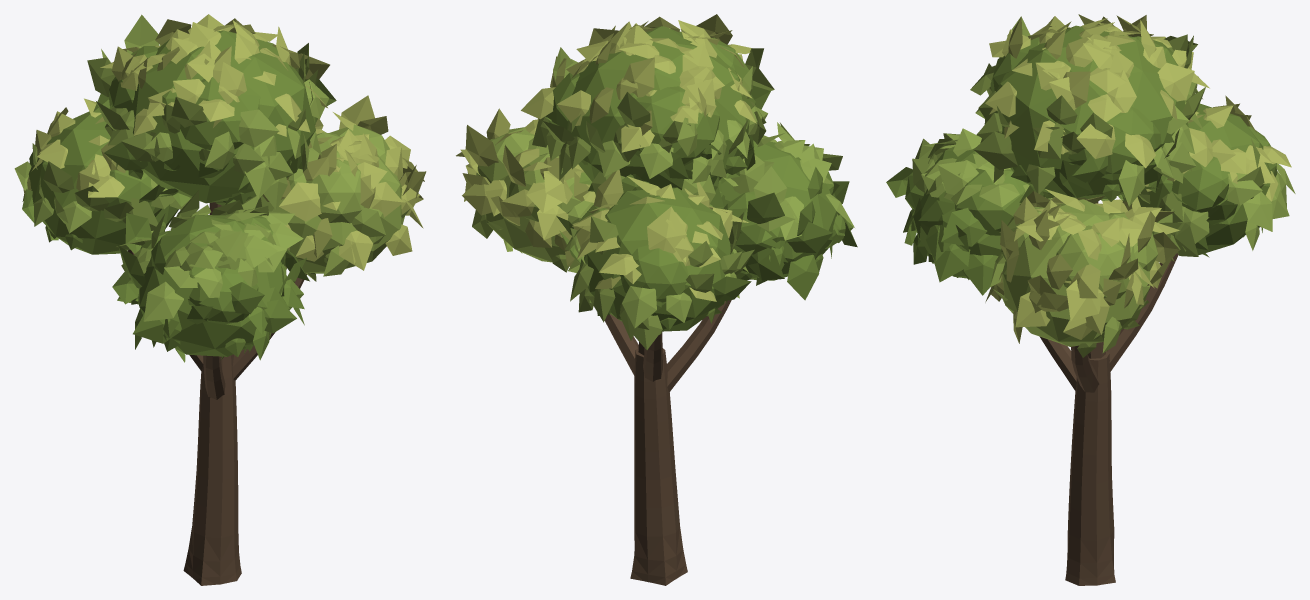
The picture shows the model from 3 angles, left to right: view 1: azimuth 30°, elevation 25°; view 2: azimuth 150°, elevation 25°; view 3: azimuth 270°, elevation 25°; orthographic projection.
Parts seen in each view (by area): view 1: crown, trunk; view 2: crown, trunk; view 3: crown, trunk.
Part boxes in pixels (<box>): crown: <box>14,14,426,362</box>; trunk: <box>127,202,306,585</box>; crown: <box>456,14,857,349</box>; trunk: <box>604,300,731,585</box>; crown: <box>886,14,1295,357</box>; trunk: <box>1039,199,1178,585</box>.
Bounding box in the file's own units: 3.55 × 5.41 × 3.64.
